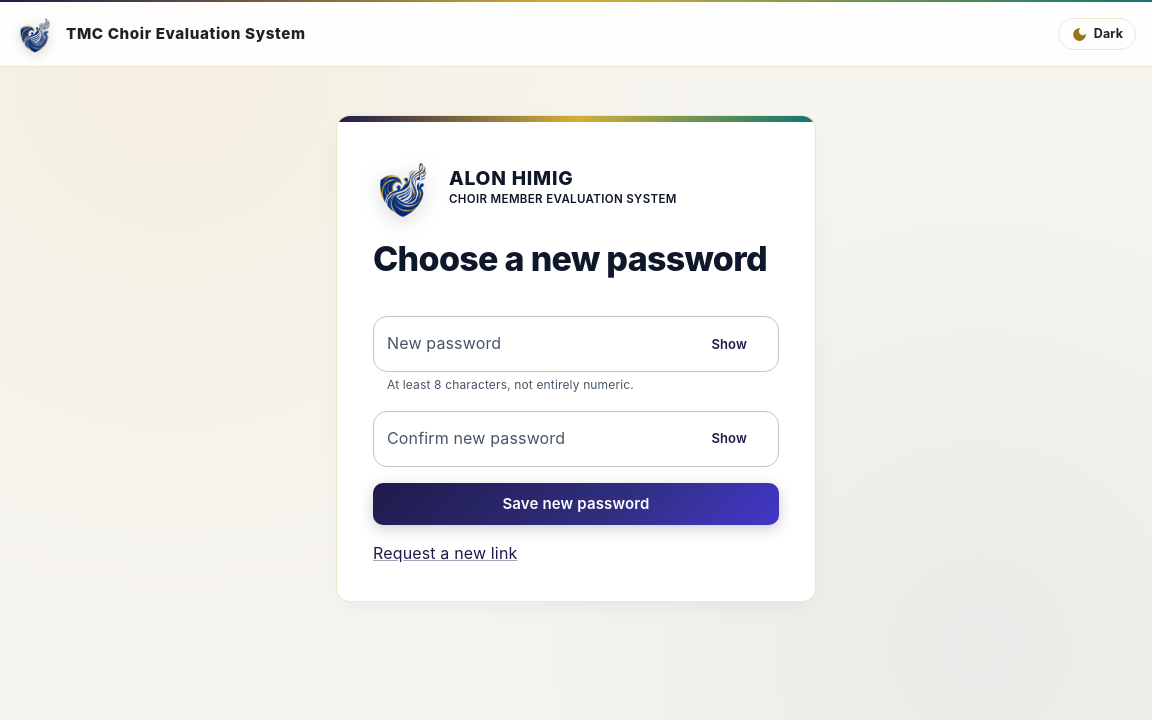
ResetPasswordPage › sends uid + token from the link and confirms success
Type "Brand-New-Chorus-77" into the password field labelled "New password" at (529, 344), box top-left (373, 316), bottom-right (685, 372)
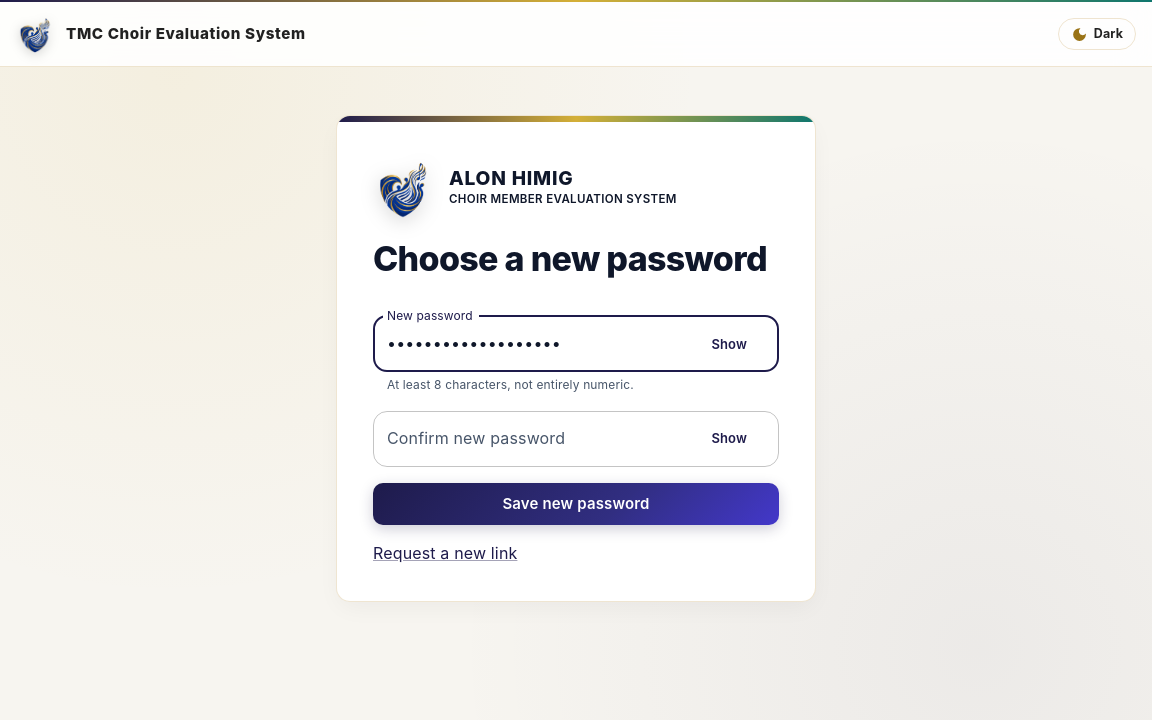
Type "Brand-New-Chorus-77" into the password field labelled "Confirm new password" at (529, 439), box top-left (373, 411), bottom-right (685, 467)
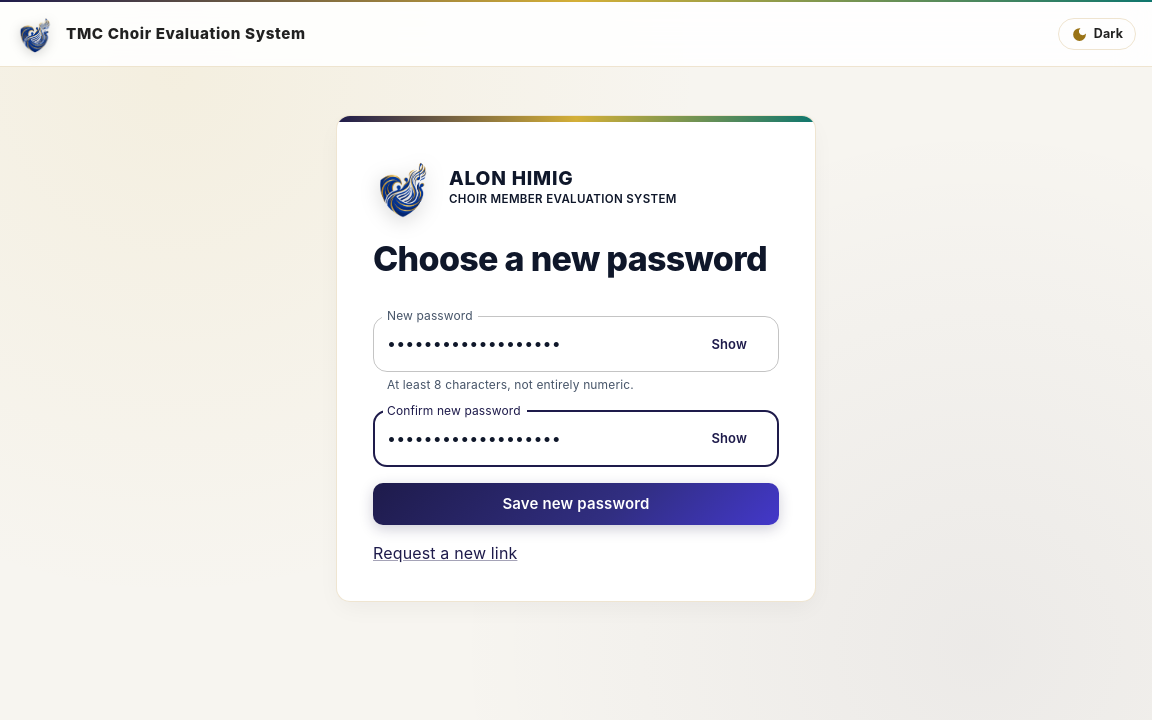
Click the button "Save new password" at (576, 504), box top-left (373, 483), bottom-right (779, 525)
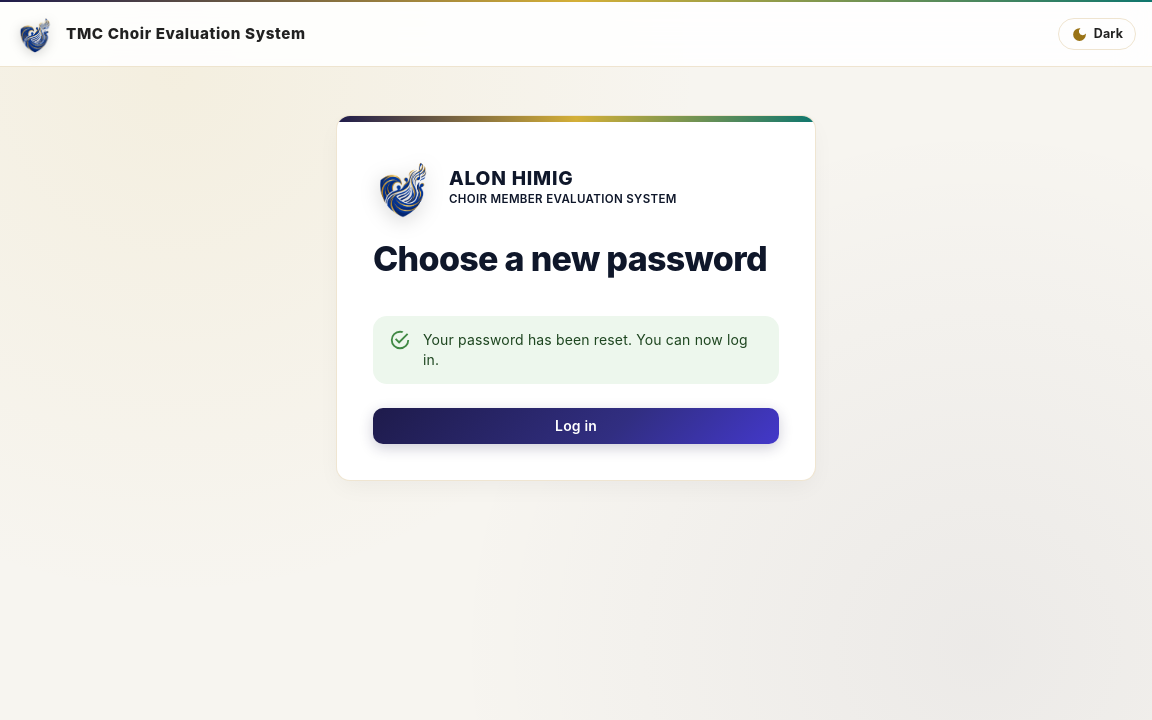
expect the text "Your password has been reset. You can now log in." is shown: met, box top-left (423, 322), bottom-right (763, 378)
